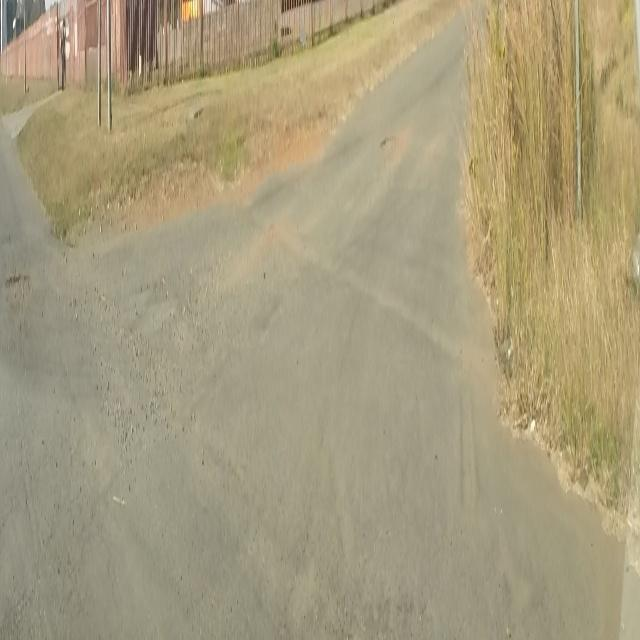pothole: (3, 268, 32, 314), (380, 130, 398, 154)
